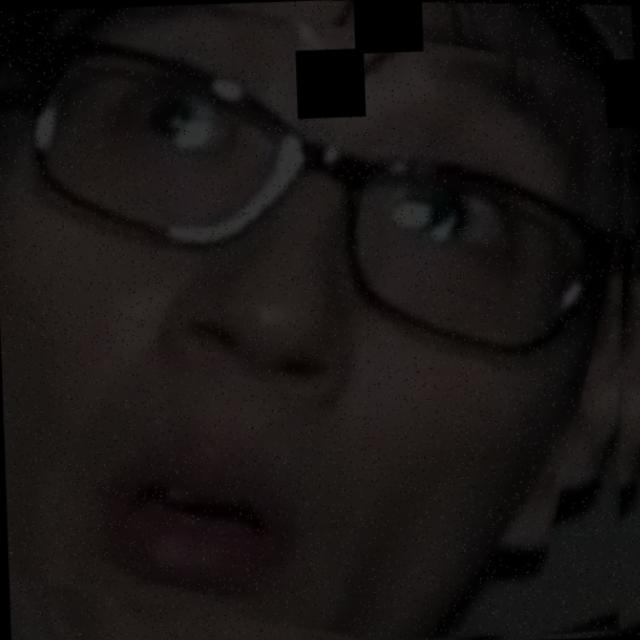Surprised: (21, 37, 589, 619)
